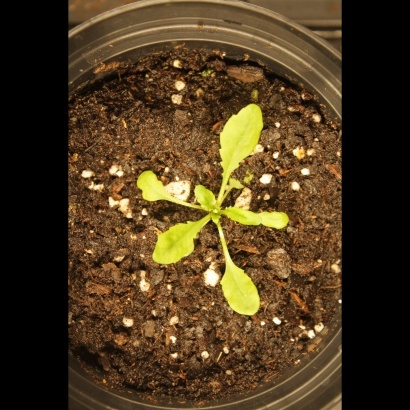leaf: (217, 239, 270, 325), (211, 99, 263, 180), (142, 216, 208, 273), (224, 203, 299, 237), (121, 164, 178, 208), (190, 182, 223, 217)
